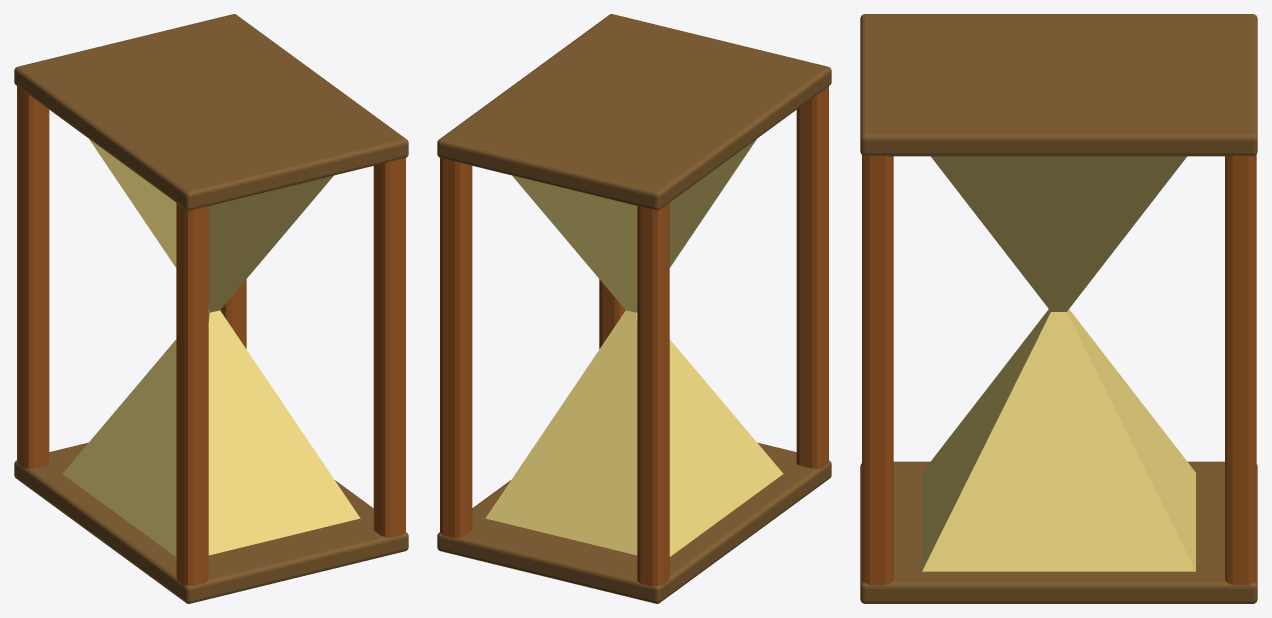
File: часы.obj
3 views of the same model, side by side, from view 1: azimuth 30°, elevation 25°; view 2: azimuth 150°, elevation 25°; view 3: azimuth 270°, elevation 25° (orthographic). The views are drawn at different scales.
Parts seen in each view (by area): view 1: часы; view 2: часы; view 3: часы.
Boxes of the visible parts, x1,y1,x2,y2 form: часы: (14,14,408,603); часы: (437,14,831,603); часы: (860,14,1257,603).
Bounding box in the file's own units: 3.71 × 6.55 × 5.03.
